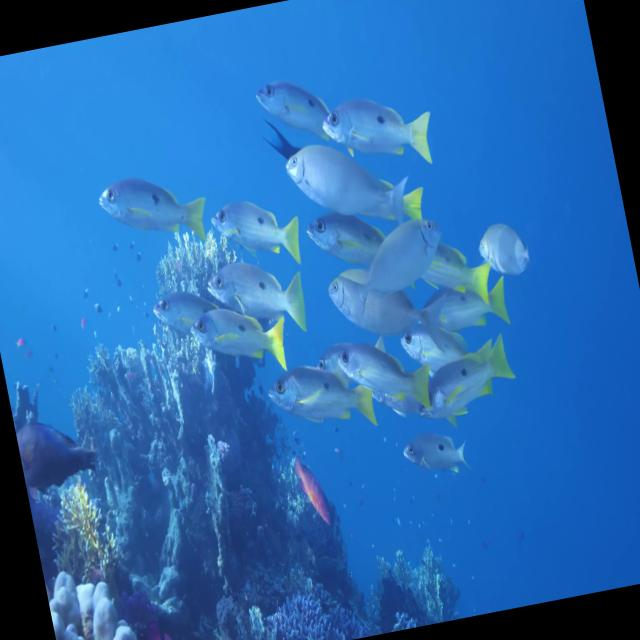fish: (282, 118, 415, 254), (201, 237, 337, 345), (312, 82, 447, 190), (182, 284, 304, 396), (196, 166, 312, 280), (406, 333, 520, 431), (92, 160, 212, 252), (322, 244, 432, 342), (324, 324, 442, 414), (267, 344, 385, 430), (356, 205, 458, 302), (422, 216, 510, 321), (254, 60, 334, 140), (472, 210, 544, 293), (144, 268, 219, 347), (392, 416, 475, 485), (281, 444, 342, 535), (396, 304, 466, 370)
